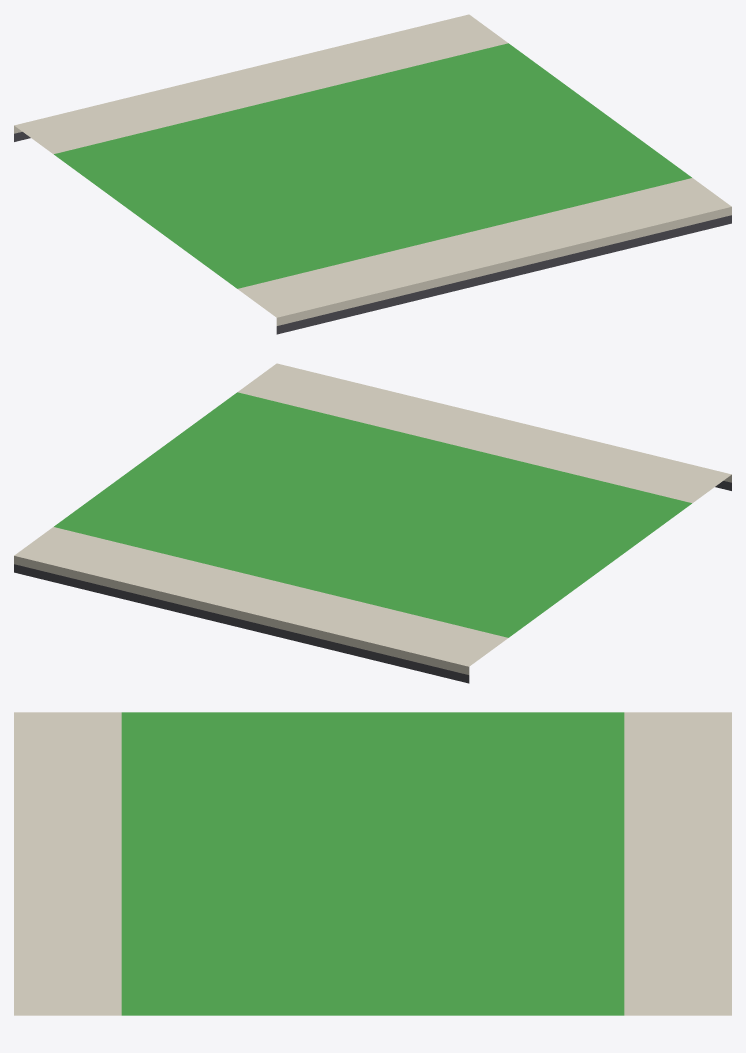
File: grass_sand3.fbx
3 renders of one model, top to bottom at view 1: azimuth 30°, elevation 25°; view 2: azimuth 150°, elevation 25°; view 3: azimuth 270°, elevation 25°, orthographic. The views are drawn at different scales.
Visible parts, largest first — view 1: grass_sandwich3; view 2: grass_sandwich3; view 3: grass_sandwich3.
Part boxes in pixels (x1,y1,x2,y2): grass_sandwich3: (14, 14, 731, 334); grass_sandwich3: (14, 363, 731, 683); grass_sandwich3: (14, 712, 731, 1015).
Bounding box in the file's own units: 1000 × 35.23 × 1000.
